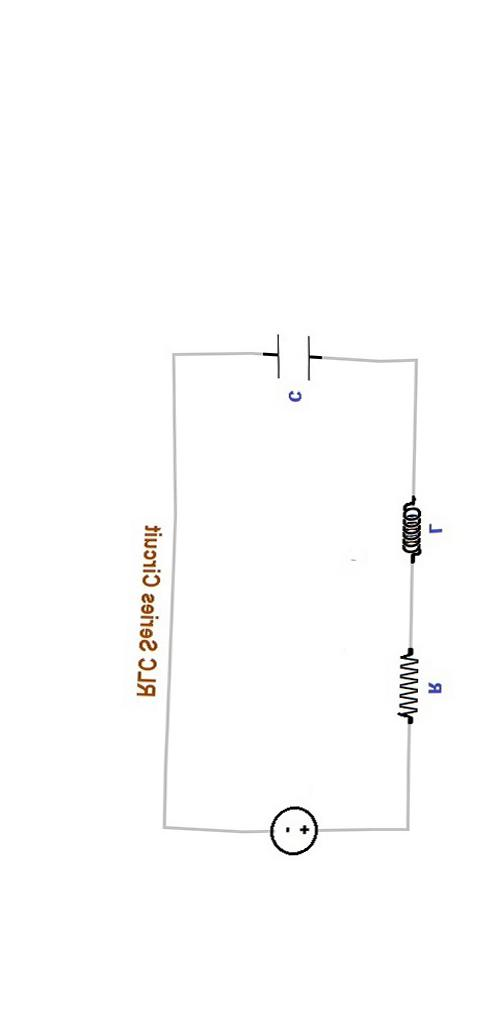Battery: (223, 773, 346, 888)
